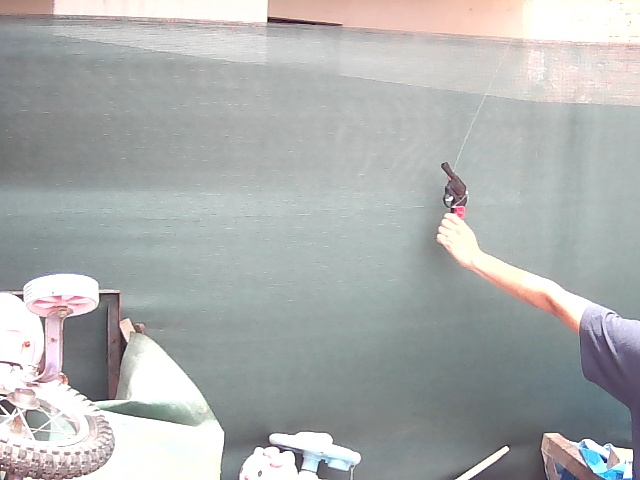pistola: (435, 156, 471, 218)
